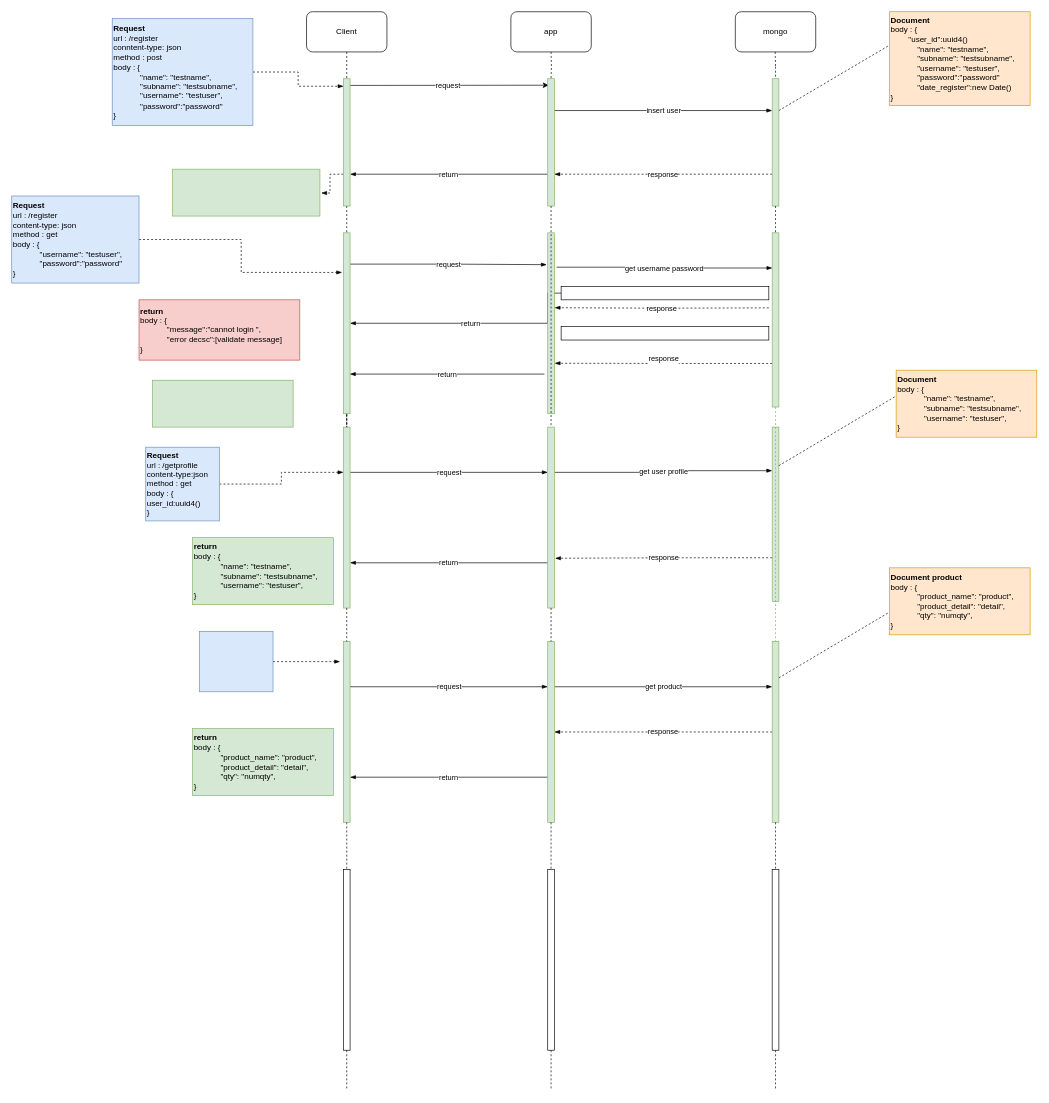
Some shapes in this 1049 by 1103 pixel diagram are drawn without their labels. The centre of each missing label's shape, as x and y in pixels:
data username and password match: [664,333]
data username and password not match or missing: [664,293]
Request url : /getproduct method : get body : { }: [236,661]
return body : { "message":" login Success" }: [222,403]
return body : { "message":"register Success" }: [246,192]
